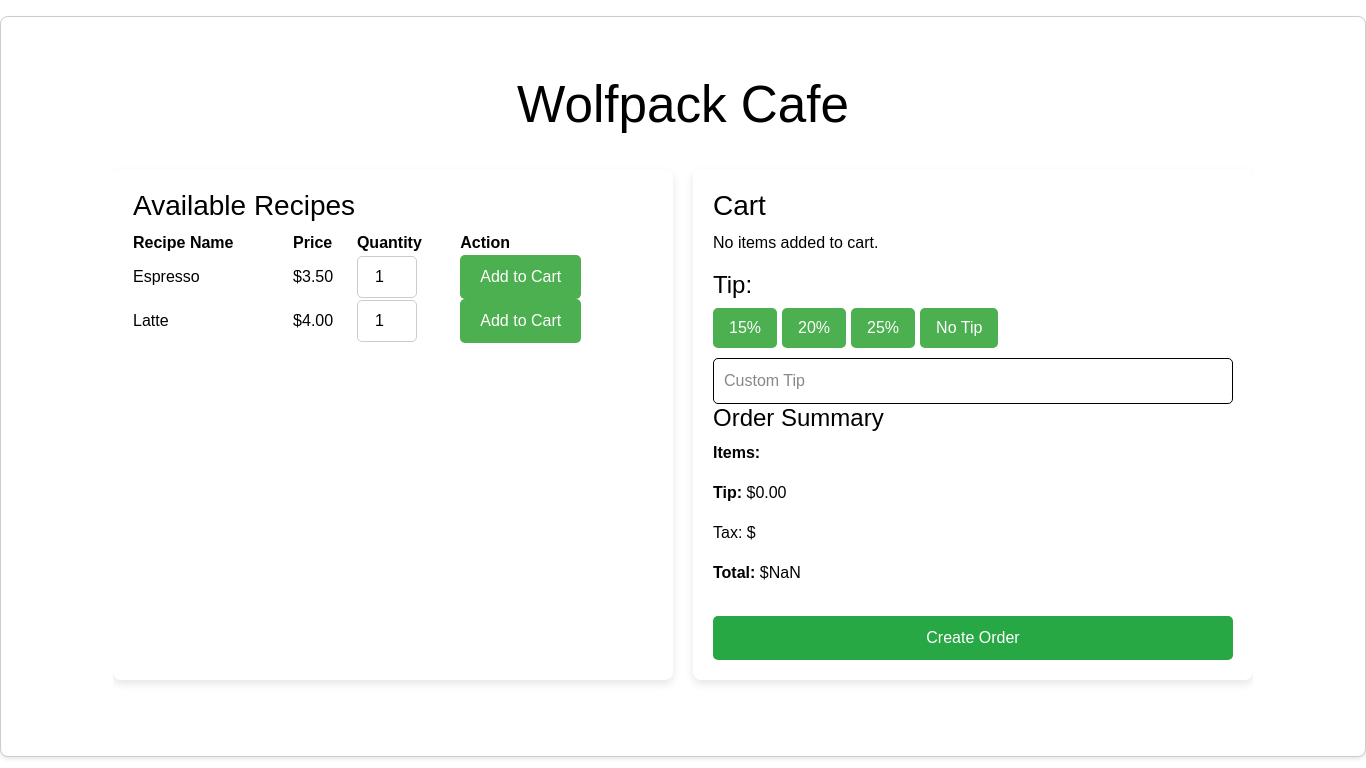
Test case: CreateOrderComponent › displays error message when order creation fails
expect the text "Espresso" is shown: met, box [133, 268, 200, 285]
**E. Set Quantity to '2' Using fireEvent.change**
Step 1. Replace the text in the number field in the row of "Espresso" with "2" → [387, 277], box [357, 256, 417, 298]
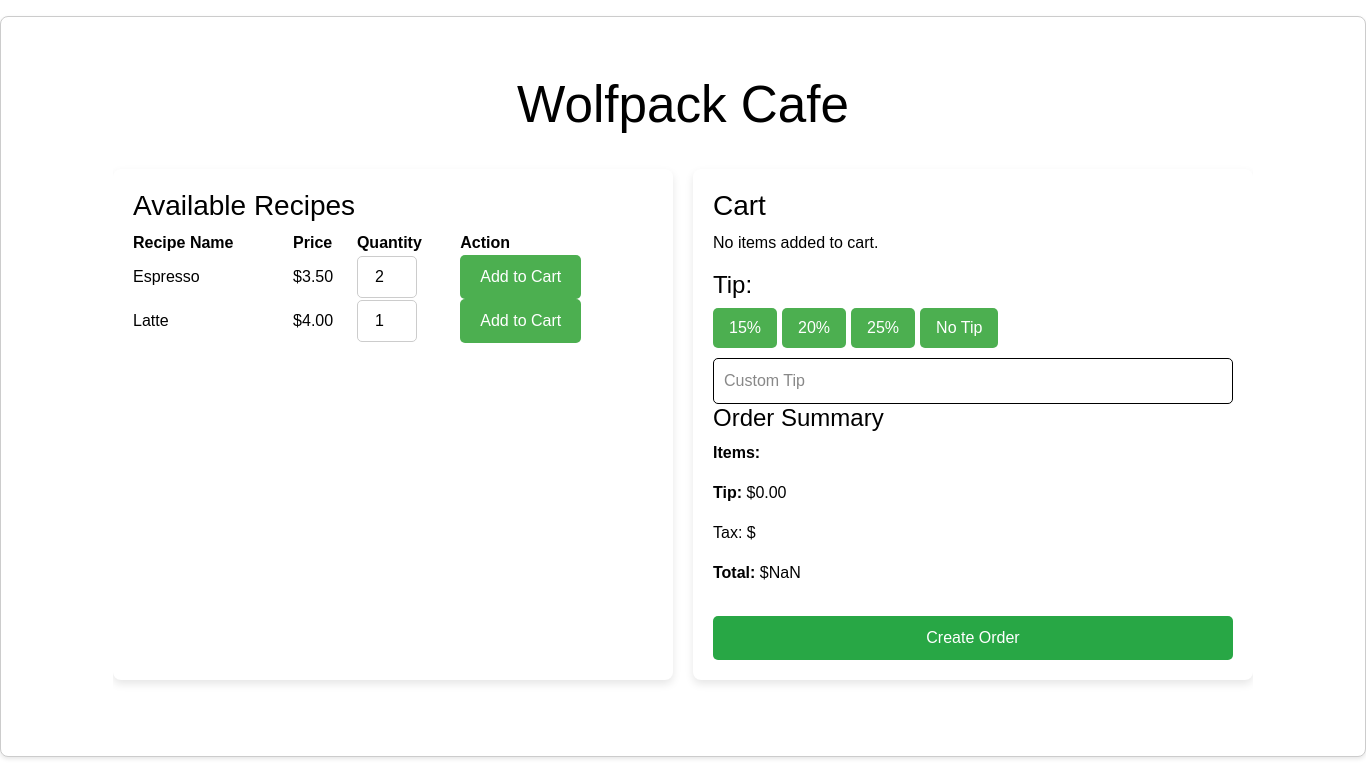
**F. Click "Add to Cart" Button**
Step 2. Click the button "Add to Cart" in the row of "Espresso" → [521, 277], box [460, 255, 581, 299]
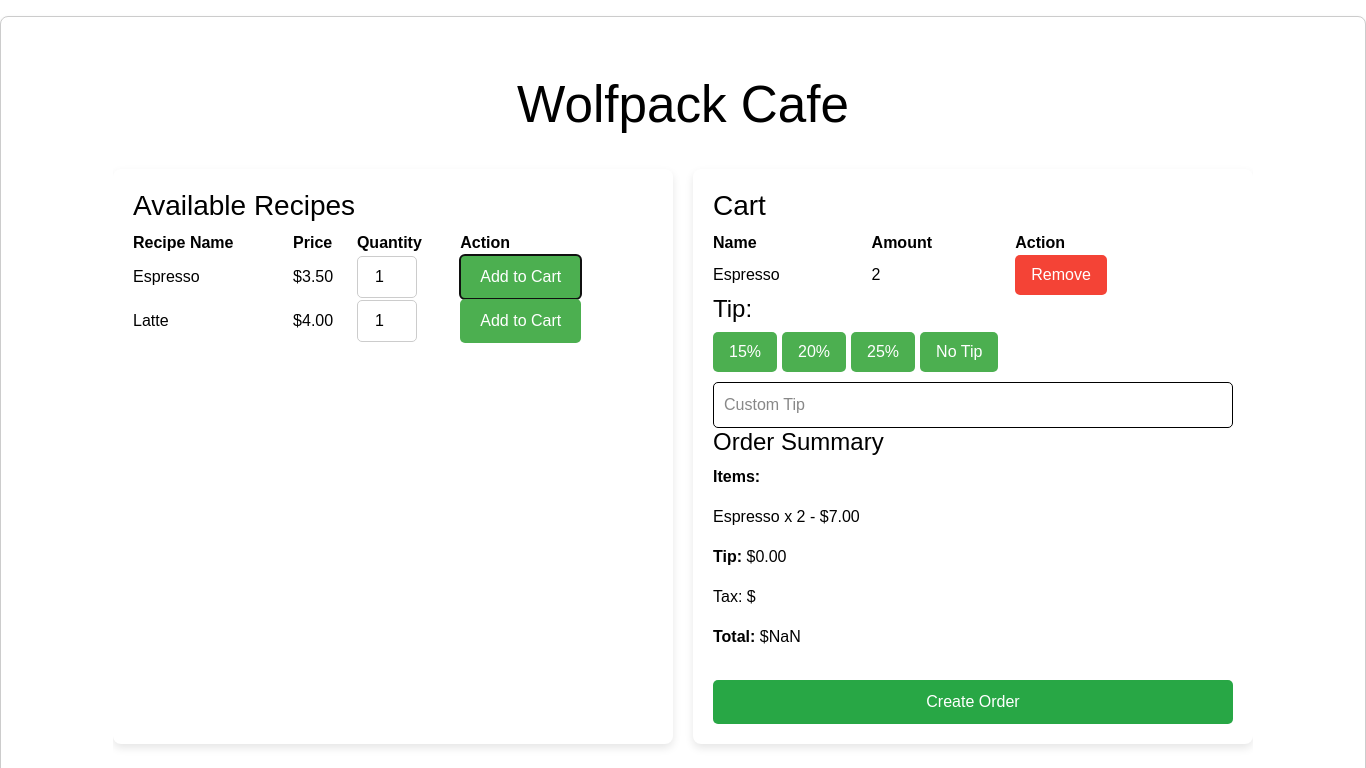
Step 3. Click the button "15%" → [745, 352], box [713, 332, 777, 372]
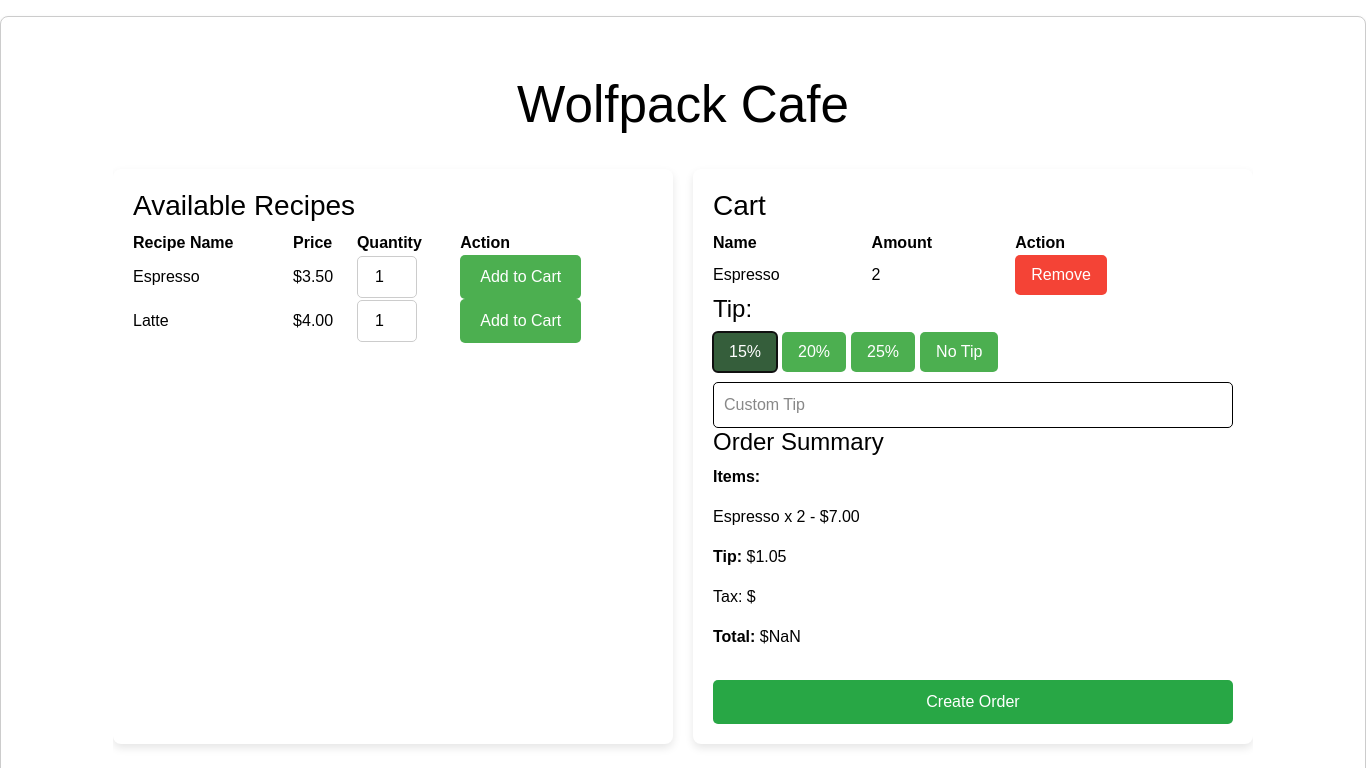
**H. Click "Create Order" Button in Cart**
Step 4. Click the button "Create Order" → [973, 702], box [713, 680, 1233, 724]
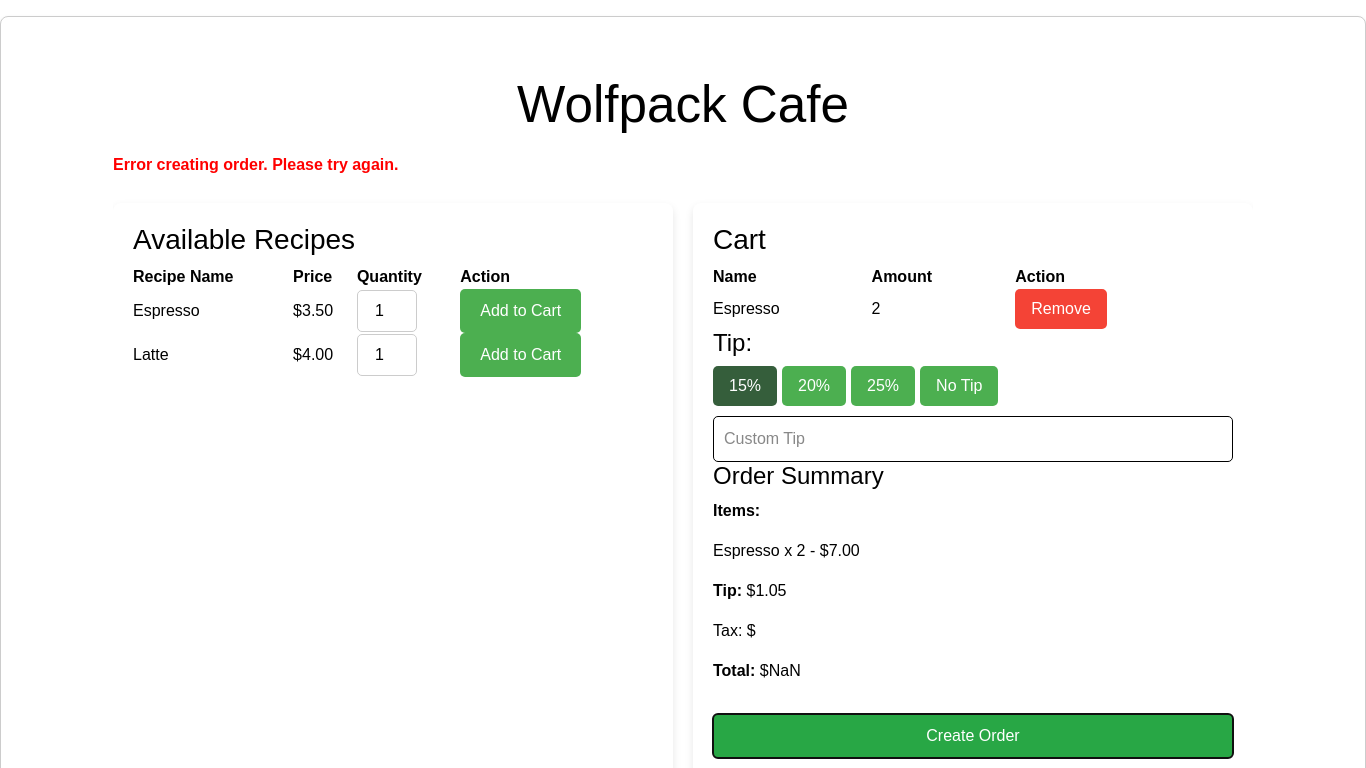
expect the text "Error creating order. Please try again." is shown: met, box [113, 156, 398, 173]
